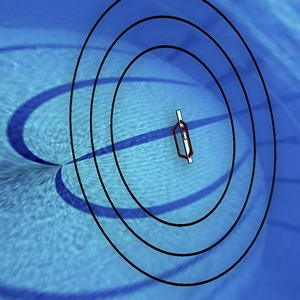circle: (56, 1, 295, 296)
submarine: (160, 105, 206, 172)
